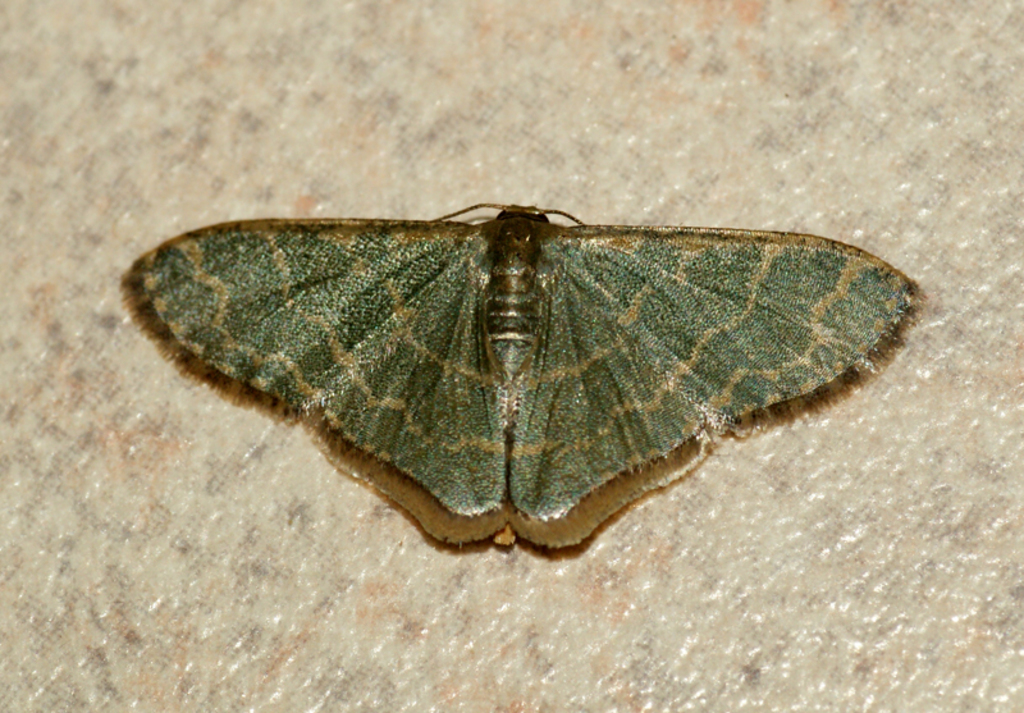Butterfly: (121, 209, 935, 568)
